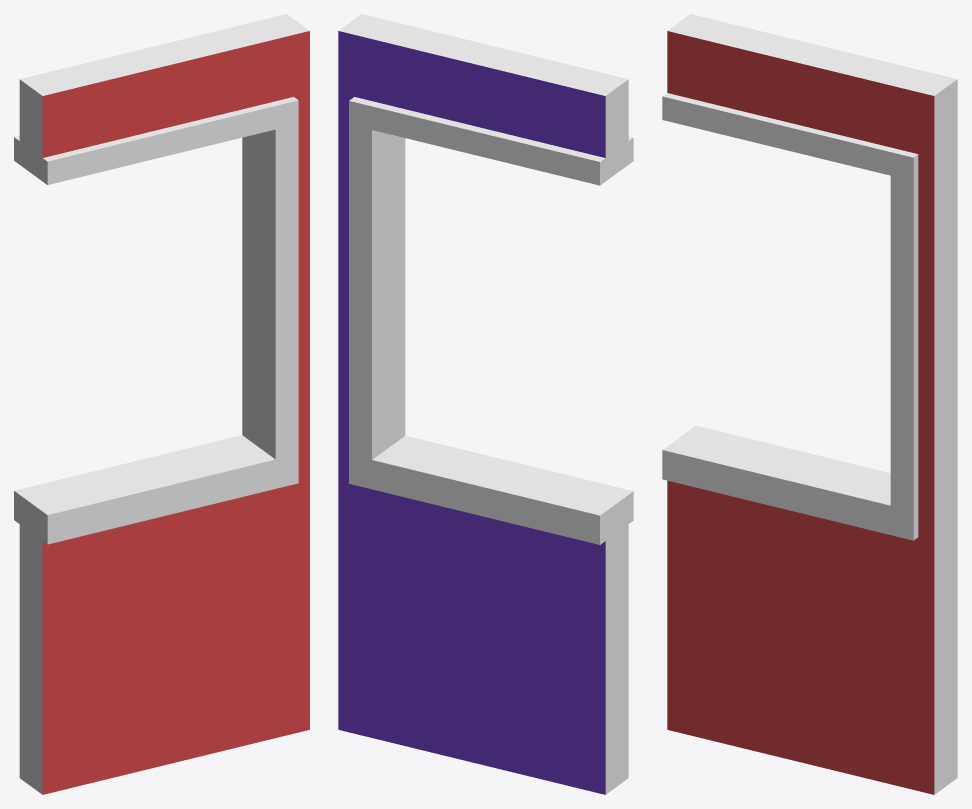
Rendered from LeftWindow.fbx.
The picture shows the model from 3 angles, left to right: view 1: azimuth 30°, elevation 25°; view 2: azimuth 150°, elevation 25°; view 3: azimuth 330°, elevation 25°; orthographic projection.
Visible parts, largest first — view 1: SecondFace, MiddleFace; view 2: FirstFace, MiddleFace; view 3: SecondFace, MiddleFace.
Part boxes in pixels (left/top/right/bottom): SecondFace: left=42, top=31, right=309, bottom=794; MiddleFace: left=14, top=14, right=309, bottom=794; FirstFace: left=338, top=31, right=605, bottom=794; MiddleFace: left=339, top=14, right=633, bottom=794; SecondFace: left=667, top=31, right=934, bottom=794; MiddleFace: left=662, top=14, right=957, bottom=794.
Bounding box in the file's own units: 2 × 0.4327 × 5.
